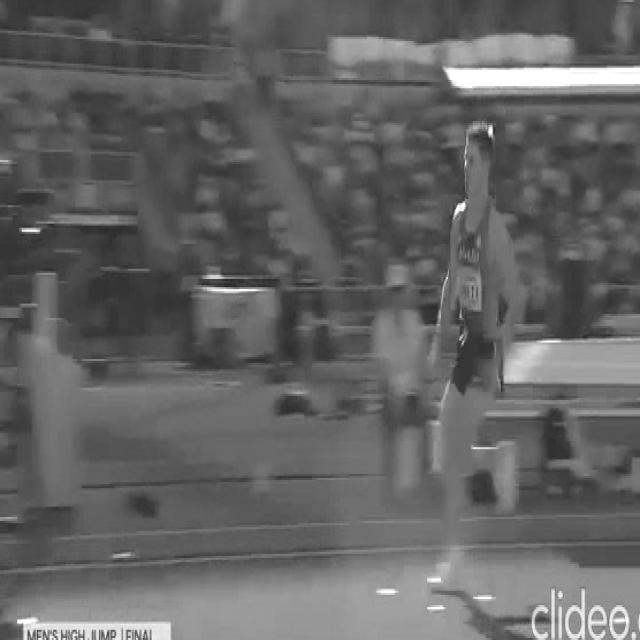run: (426, 121, 516, 586)
